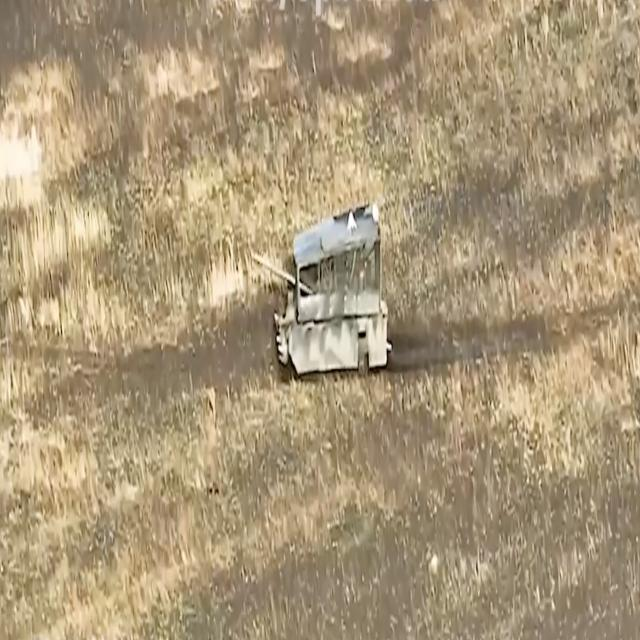vehicle: (249, 205, 391, 378)
